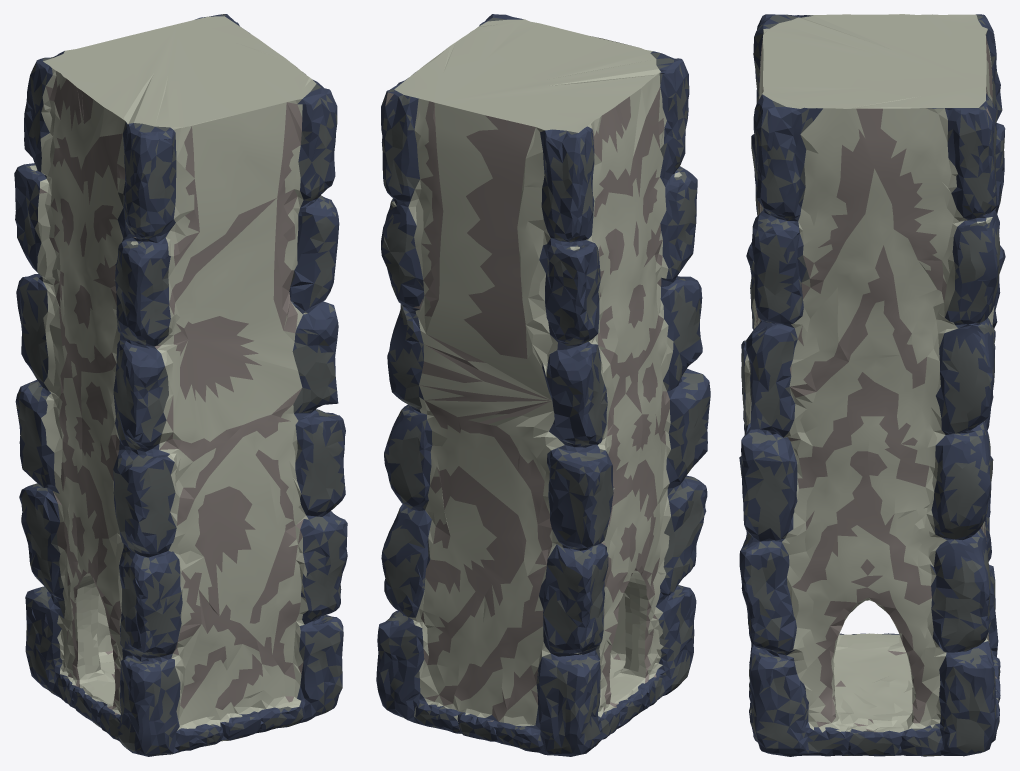
Rendered from TowerTallplainSection.obj.
3 renders of one model, left to right at view 1: azimuth 30°, elevation 25°; view 2: azimuth 150°, elevation 25°; view 3: azimuth 270°, elevation 25°, orthographic. The views are drawn at different scales.
Parts seen in each view (by area): view 1: Cube_Cube.001; view 2: Cube_Cube.001; view 3: Cube_Cube.001.
Boxes of the visible parts, bbox=[...] form: Cube_Cube.001: bbox=[14, 14, 347, 756]; Cube_Cube.001: bbox=[376, 14, 710, 756]; Cube_Cube.001: bbox=[739, 14, 1005, 756].
Bounding box in the file's own units: 2.25 × 6.09 × 2.27.
